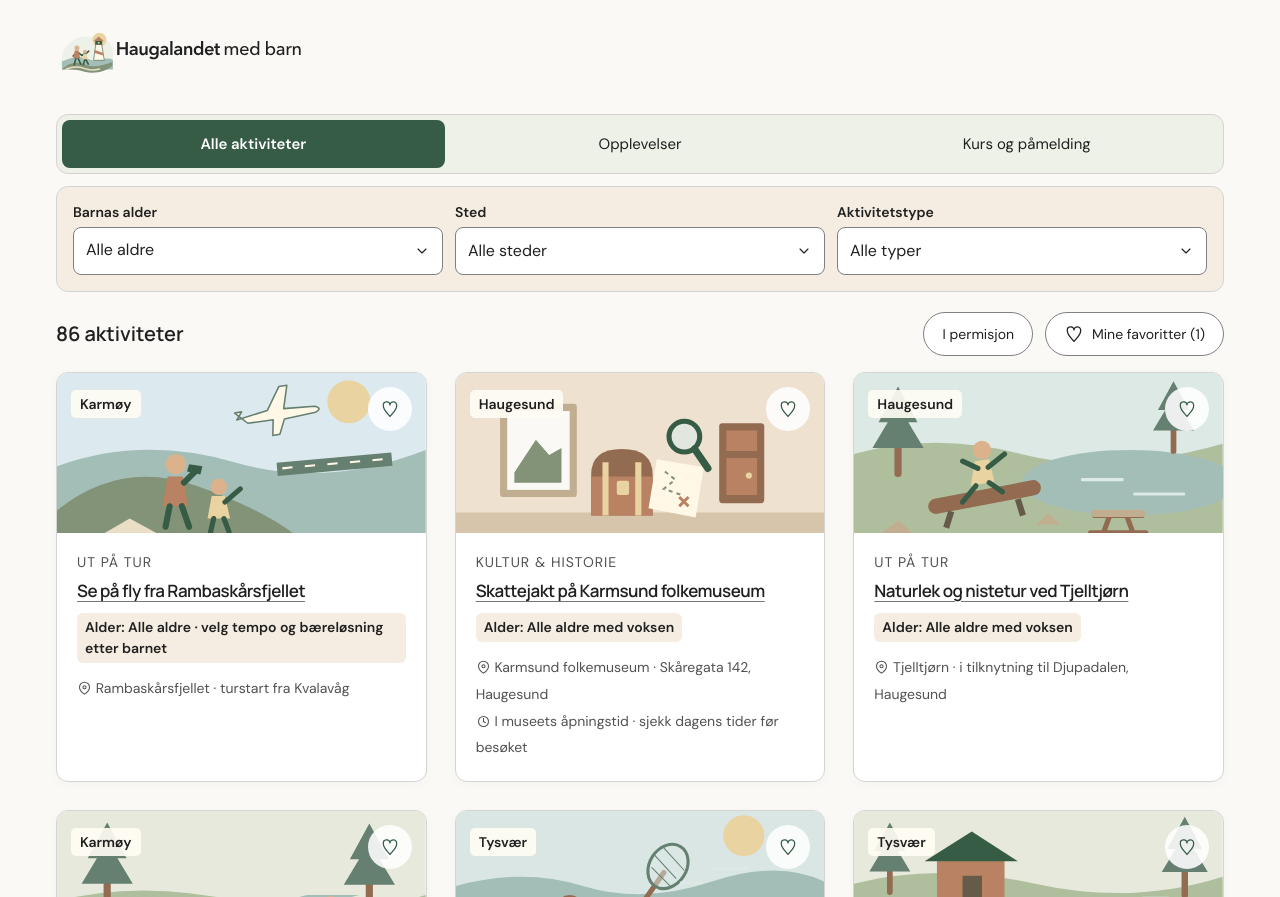
Scenario: aktivitetsoversikten › starter med alle aktiviteter og viser relevante kurs fra en tom opplevelsesliste
The image size is (1280, 897).
Click the button "Opplevelser": point(640, 144) x1=449 y1=120 x2=831 y2=168
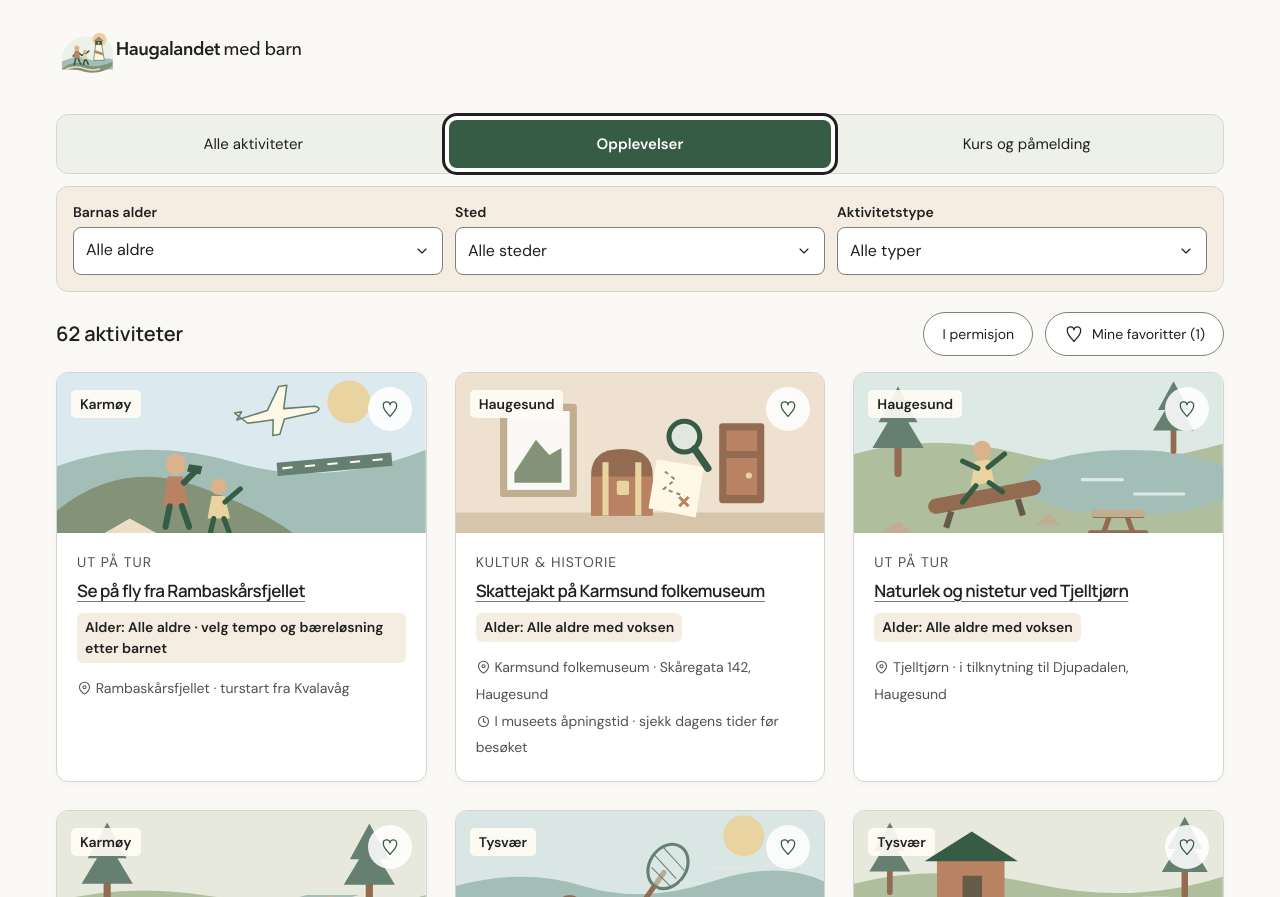
Expected: the heading "Babysvømming i Karmøyhallen" is not shown
Click the button "Mine favoritter (1)": point(1134, 334) x1=1045 y1=312 x2=1224 y2=356
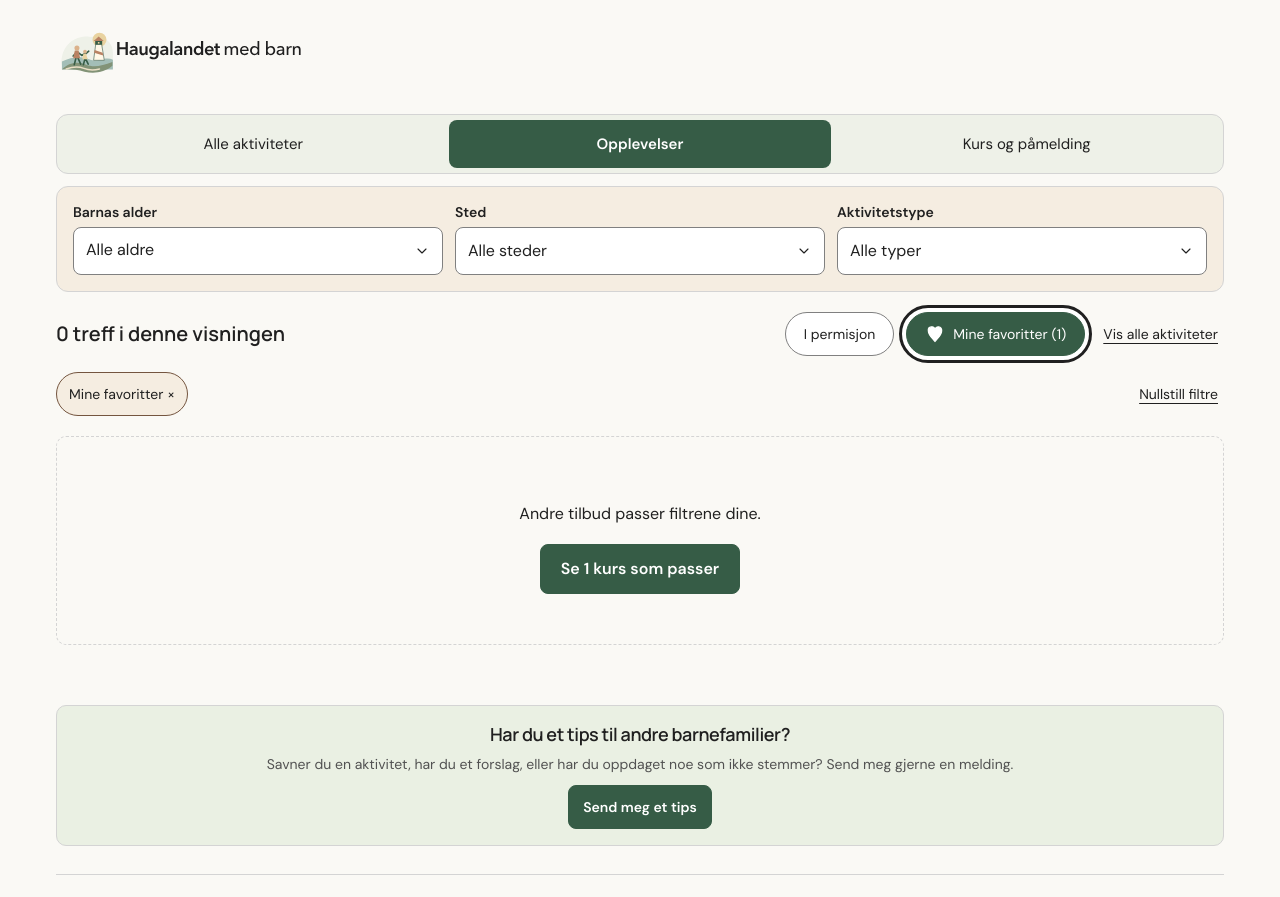
Click the button "Se 1 kurs som passer": point(640, 569) x1=540 y1=544 x2=740 y2=594
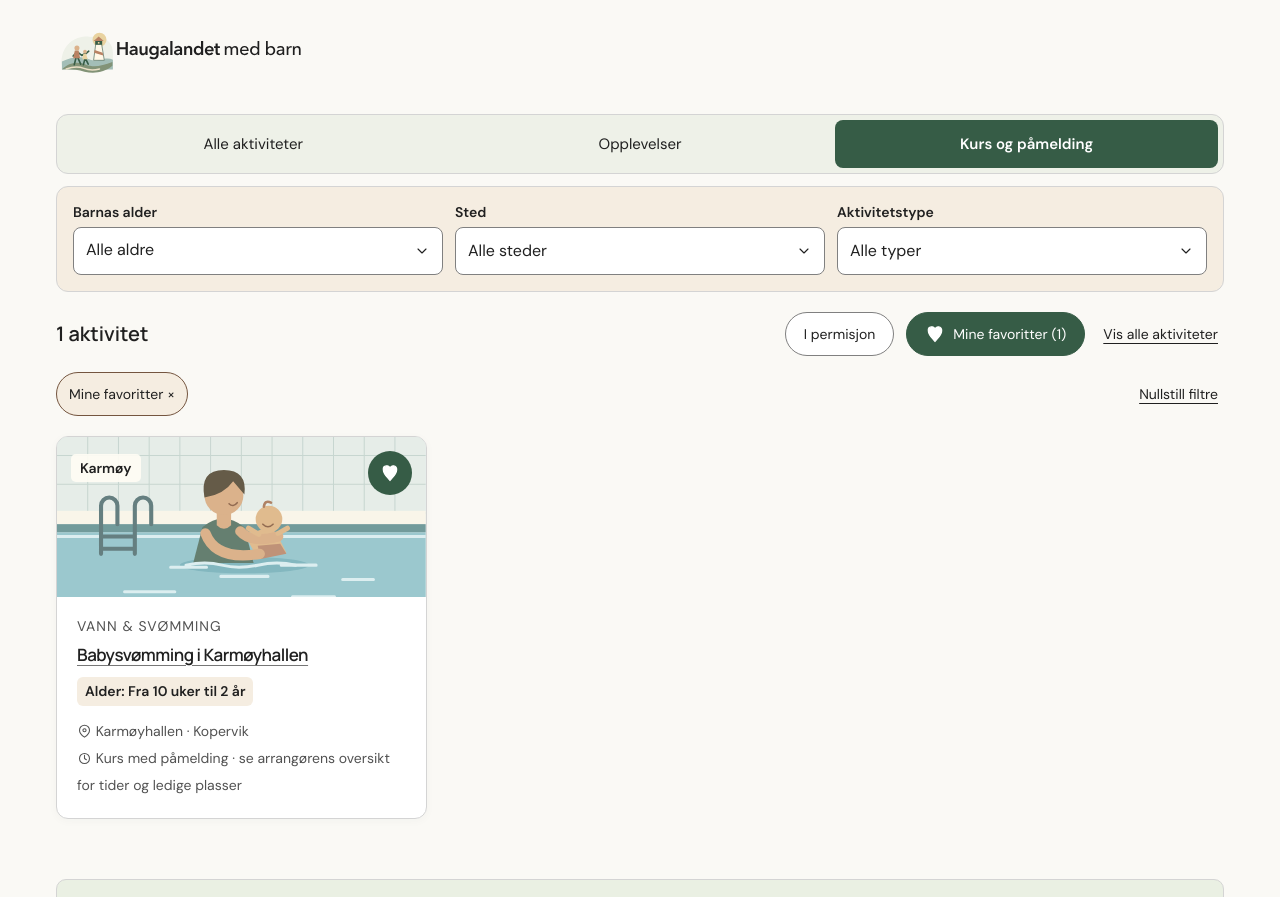
Expected: the heading "Babysvømming i Karmøyhallen" is shown, x1=77 y1=643 x2=308 y2=666
